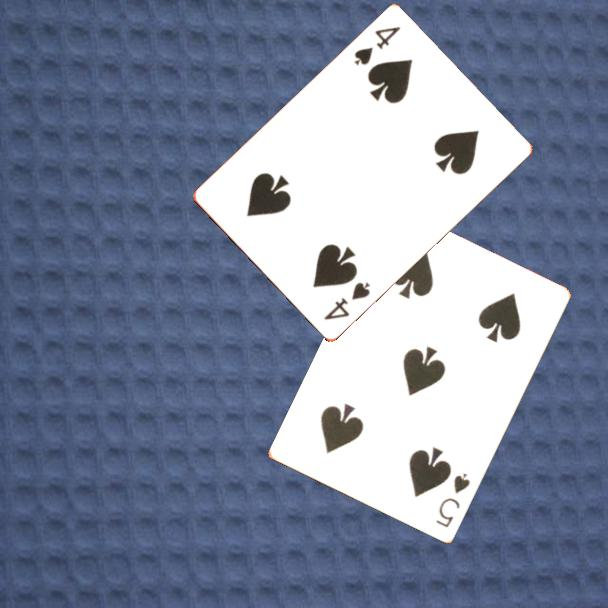s04: (350, 23, 403, 69), (320, 279, 374, 324)
s05: (432, 470, 473, 531)
